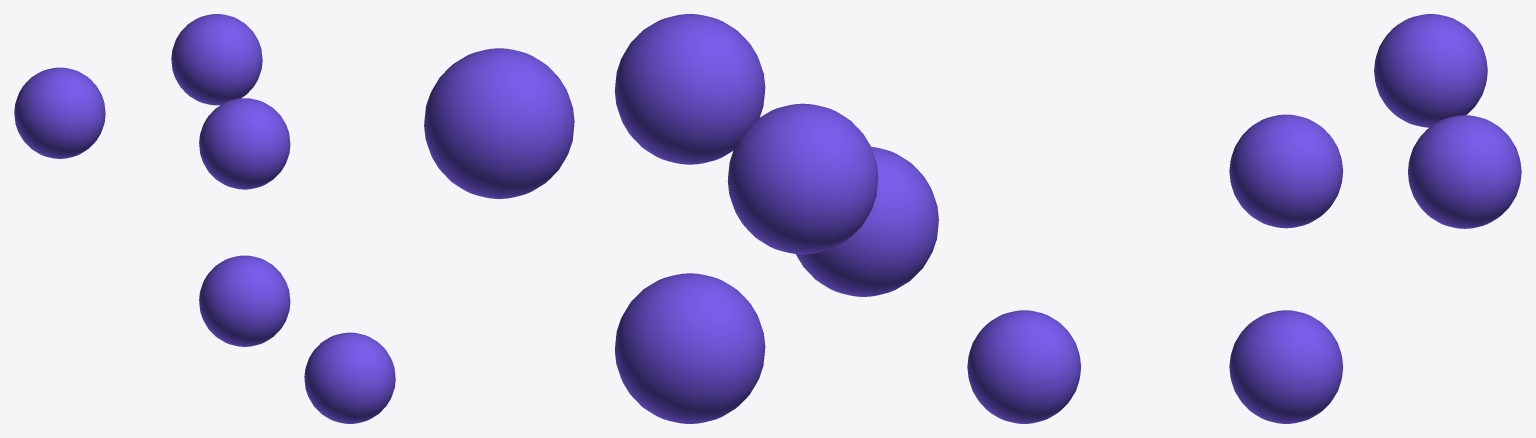
Rendered from flowtest.glb.
The picture shows the model from 3 angles, left to right: view 1: azimuth 30°, elevation 25°; view 2: azimuth 150°, elevation 25°; view 3: azimuth 270°, elevation 25°; orthographic projection. The views are drawn at different scales.
Parts seen in each view (by area): view 1: Sphere.001, Sphere, Sphere.002, Sphere.004, Sphere.003; view 2: Sphere.003, Sphere.004, Sphere.001, Sphere.002, Sphere; view 3: Sphere.002, Sphere.003, Sphere, Sphere.001, Sphere.004.
Part boxes in pixels (bbox=[...]): Sphere.001: bbox=[199, 255, 290, 346]; Sphere: bbox=[304, 332, 395, 423]; Sphere.002: bbox=[199, 98, 290, 189]; Sphere.004: bbox=[14, 67, 105, 158]; Sphere.003: bbox=[171, 14, 262, 105]; Sphere.003: bbox=[424, 48, 574, 198]; Sphere.004: bbox=[727, 103, 878, 254]; Sphere.001: bbox=[615, 273, 765, 423]; Sphere.002: bbox=[614, 14, 765, 164]; Sphere: bbox=[796, 146, 938, 296]; Sphere.002: bbox=[1229, 114, 1343, 228]; Sphere.003: bbox=[1408, 115, 1521, 228]; Sphere: bbox=[967, 310, 1080, 423]; Sphere.001: bbox=[1229, 310, 1342, 423]; Sphere.004: bbox=[1374, 14, 1487, 127].
Size of the model in its own units: 6.31 by 6.3 by 9.74.
